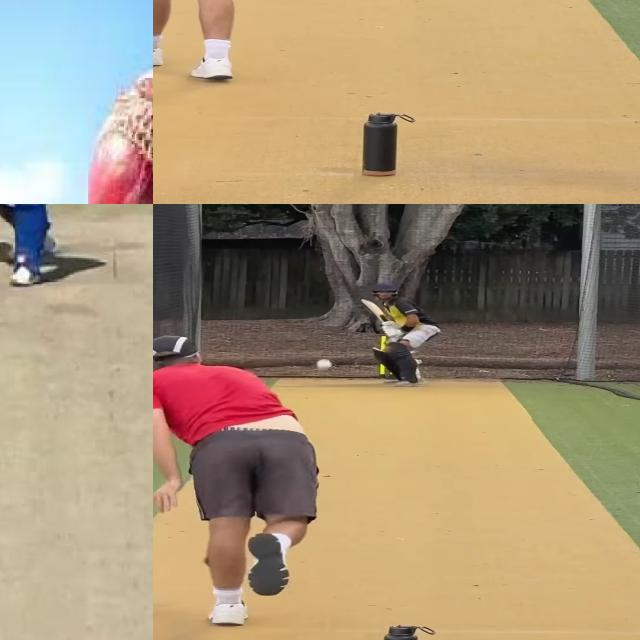Cricket ball: (88, 68, 153, 204), (315, 358, 335, 371)
